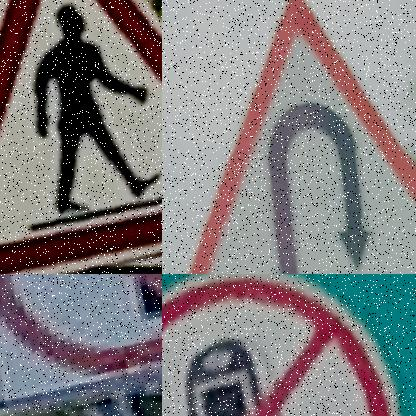No Mobile Allowed: (162, 274, 416, 416)
No left turn: (0, 274, 162, 416)
U-Turn: (189, 0, 416, 274)
